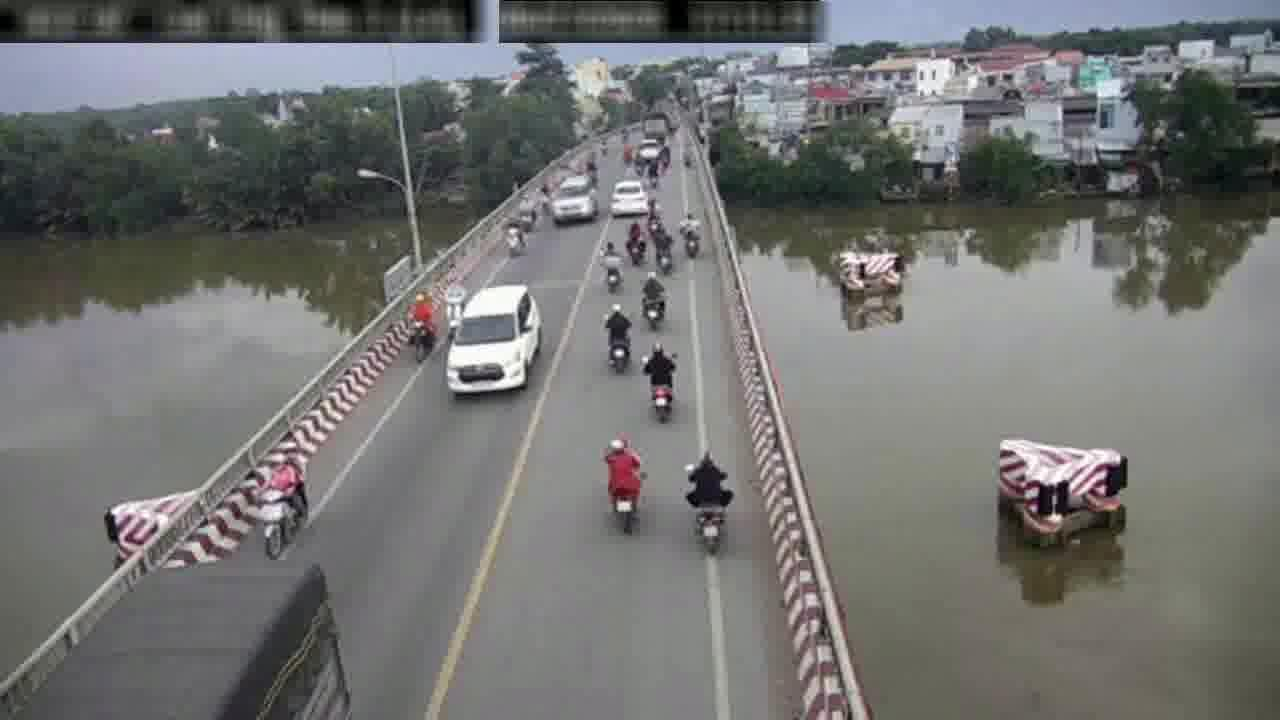container: (450, 276, 544, 408), (551, 172, 595, 223), (605, 175, 645, 214)
motorbike: (677, 439, 735, 552), (264, 430, 312, 565), (601, 430, 641, 540), (638, 340, 677, 424), (402, 285, 436, 361), (607, 298, 631, 375), (601, 236, 625, 293), (638, 267, 663, 321), (625, 218, 644, 266), (656, 235, 674, 275)
